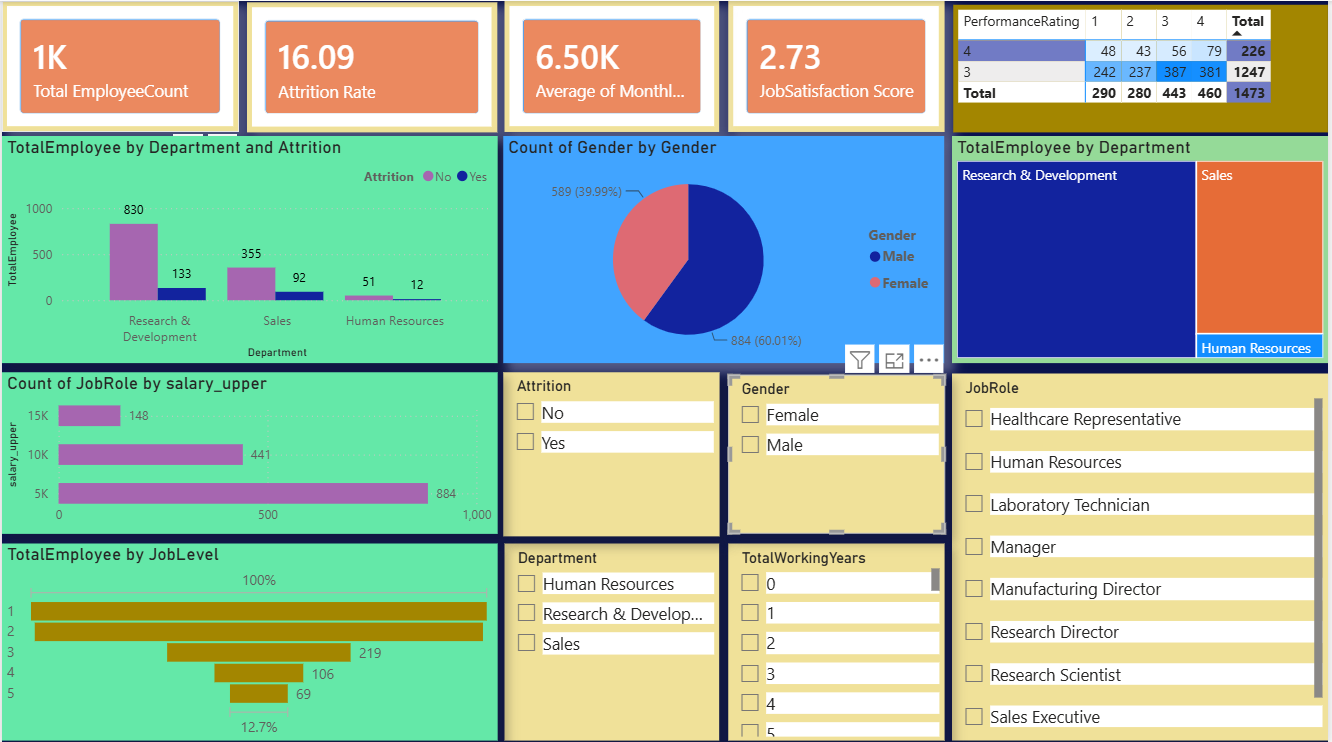

Layout of this report page (visuals, bound fields, positions):
{"tool":"powerbi","page":{"name":"Page 1","canvas":[1280,720],"ordinal":0},"visuals":[{"type":"cardVisual","fields":{"Data":["Sum(HR_Analytics_Cleaned.EmployeeCount)"]},"box":[0,0,228,126.7],"z":0},{"type":"cardVisual","fields":{"Data":["Avg(HR_Analytics_Cleaned.JobSatisfaction)"]},"box":[700.9,0,208.7,126.7],"z":1000},{"type":"cardVisual","fields":{"Data":["HR_Analytics_Cleaned.Attrition Rate"]},"box":[236.5,1.2,241.3,125.5],"z":2000},{"type":"cardVisual","fields":{"Data":["Avg(HR_Analytics_Cleaned.MonthlyIncome)"]},"box":[485,0,207.5,126.7],"z":3000},{"type":"clusteredColumnChart","fields":{"Category":["HR_Analytics_Cleaned.Department"],"Series":["HR_Analytics_Cleaned.Attrition"],"Y":["Sum(HR_Analytics_Cleaned.EmployeeCount)"]},"box":[0,130.5,478,219.5],"z":4000},{"type":"pieChart","fields":{"Category":["HR_Analytics_Cleaned.Gender"],"Y":["CountNonNull(HR_Analytics_Cleaned.Gender)"]},"box":[484.1,130.5,425.6,219.5],"z":5000},{"type":"pivotTable","fields":{"Columns":["HR_Analytics_Cleaned.JobSatisfaction"],"Rows":["HR_Analytics_Cleaned.PerformanceRating"],"Values":["Sum(HR_Analytics_Cleaned.EmployeeCount)"]},"box":[918.1,3.6,361.9,123.1],"z":6000},{"type":"treemap","fields":{"Group":["HR_Analytics_Cleaned.Department"],"Values":["Sum(HR_Analytics_Cleaned.EmployeeCount)"]},"box":[917.1,130.5,363.4,219.5],"z":7000},{"type":"slicer","fields":{"Values":["HR_Analytics_Cleaned.Department"]},"box":[485.2,523.5,207.4,191.4],"z":8000},{"type":"slicer","fields":{"Values":["HR_Analytics_Cleaned.Gender"]},"box":[701.2,361,208.5,152.4],"z":9000},{"type":"slicer","fields":{"Values":["HR_Analytics_Cleaned.JobRole"]},"box":[917.3,359.3,363,355.6],"z":10000},{"type":"slicer","fields":{"Values":["HR_Analytics_Cleaned.TotalWorkingYears"]},"box":[701.2,523.5,208.6,191.4],"z":11000},{"type":"slicer","fields":{"Values":["HR_Analytics_Cleaned.Attrition"]},"box":[484.1,358.5,208.5,158.5],"z":12000},{"type":"clusteredBarChart","fields":{"Category":["HR_Analytics_Cleaned.salary_upper"],"Y":["CountNonNull(HR_Analytics_Cleaned.JobRole)"]},"box":[0,358.5,478,156.1],"z":13000},{"type":"funnel","fields":{"Category":["HR_Analytics_Cleaned.JobLevel"],"Y":["Sum(HR_Analytics_Cleaned.EmployeeCount)"]},"box":[0,523.2,478,191.5],"z":14000}]}

Visuals, with their boxes in screenshot pixels (x1, y1, x2, y2), scaled from the page's 1280x720 canvas onto the 1332x742 screenshot:
cardVisual - Sum(HR_Analytics_Cleaned.EmployeeCount): (0,0,237,131)
cardVisual - Avg(HR_Analytics_Cleaned.JobSatisfaction): (729,0,947,131)
cardVisual - HR_Analytics_Cleaned.Attrition Rate: (246,1,497,131)
cardVisual - Avg(HR_Analytics_Cleaned.MonthlyIncome): (505,0,721,131)
clusteredColumnChart - HR_Analytics_Cleaned.Department x HR_Analytics_Cleaned.Attrition: (0,134,497,361)
pieChart - HR_Analytics_Cleaned.Gender x CountNonNull(HR_Analytics_Cleaned.Gender): (504,134,947,361)
pivotTable - HR_Analytics_Cleaned.JobSatisfaction x HR_Analytics_Cleaned.PerformanceRating: (955,4,1331,131)
treemap - HR_Analytics_Cleaned.Department x Sum(HR_Analytics_Cleaned.EmployeeCount): (954,134,1331,361)
slicer - HR_Analytics_Cleaned.Department: (505,539,721,737)
slicer - HR_Analytics_Cleaned.Gender: (730,372,947,529)
slicer - HR_Analytics_Cleaned.JobRole: (955,370,1331,737)
slicer - HR_Analytics_Cleaned.TotalWorkingYears: (730,539,947,737)
slicer - HR_Analytics_Cleaned.Attrition: (504,369,721,533)
clusteredBarChart - HR_Analytics_Cleaned.salary_upper x CountNonNull(HR_Analytics_Cleaned.JobRole): (0,369,497,530)
funnel - HR_Analytics_Cleaned.JobLevel x Sum(HR_Analytics_Cleaned.EmployeeCount): (0,539,497,737)
